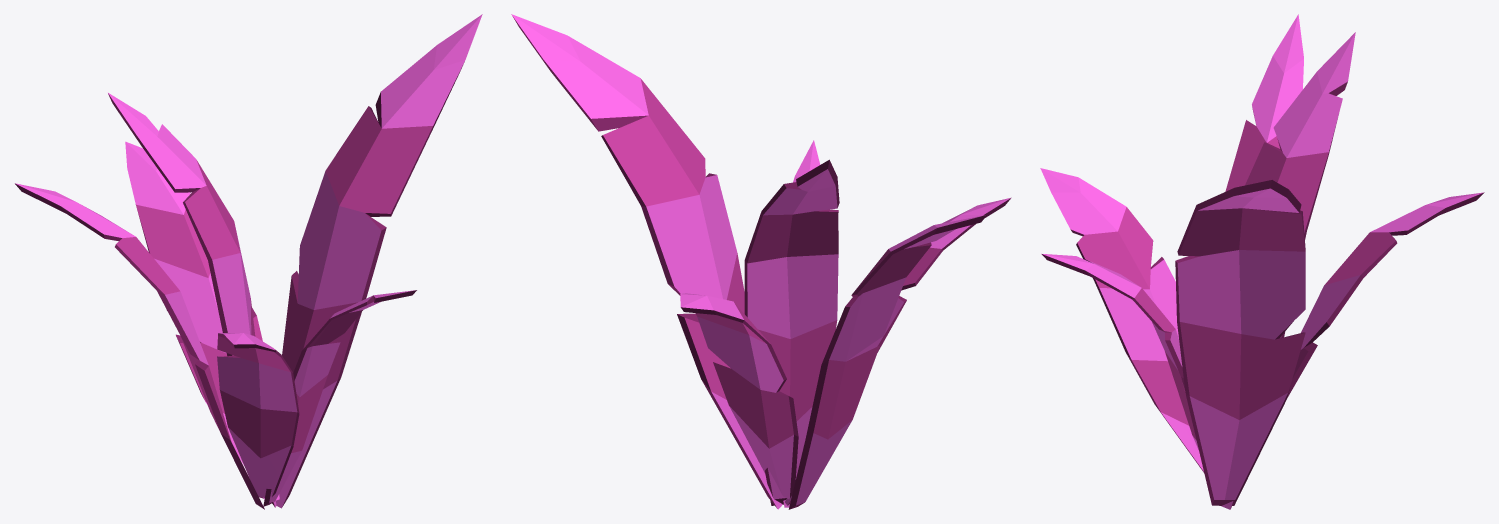
Rendered from Plant_02.glb.
The picture shows the model from 3 angles, left to right: view 1: azimuth 30°, elevation 25°; view 2: azimuth 150°, elevation 25°; view 3: azimuth 270°, elevation 25°; orthographic projection. The views are drawn at different scales.
Visible parts, largest first — view 1: Plant_02; view 2: Plant_02; view 3: Plant_02.
Part boxes in pixels (left/top/right/bottom): Plant_02: left=15, top=14, right=482, bottom=509; Plant_02: left=511, top=14, right=1011, bottom=509; Plant_02: left=1040, top=14, right=1484, bottom=509.
Bounding box in the file's own units: 1.11 × 0.9713 × 0.8767.
Materials: 1 (1 with a texture image).
